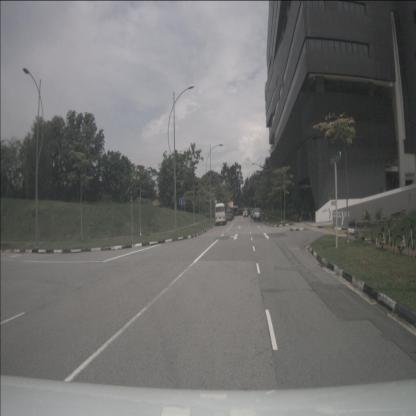vehicle-bicycle: (393, 216, 416, 260), (377, 217, 396, 254), (354, 230, 376, 244)
vehicle-car: (215, 203, 227, 225), (254, 208, 261, 222), (224, 210, 232, 221), (242, 208, 248, 217)
